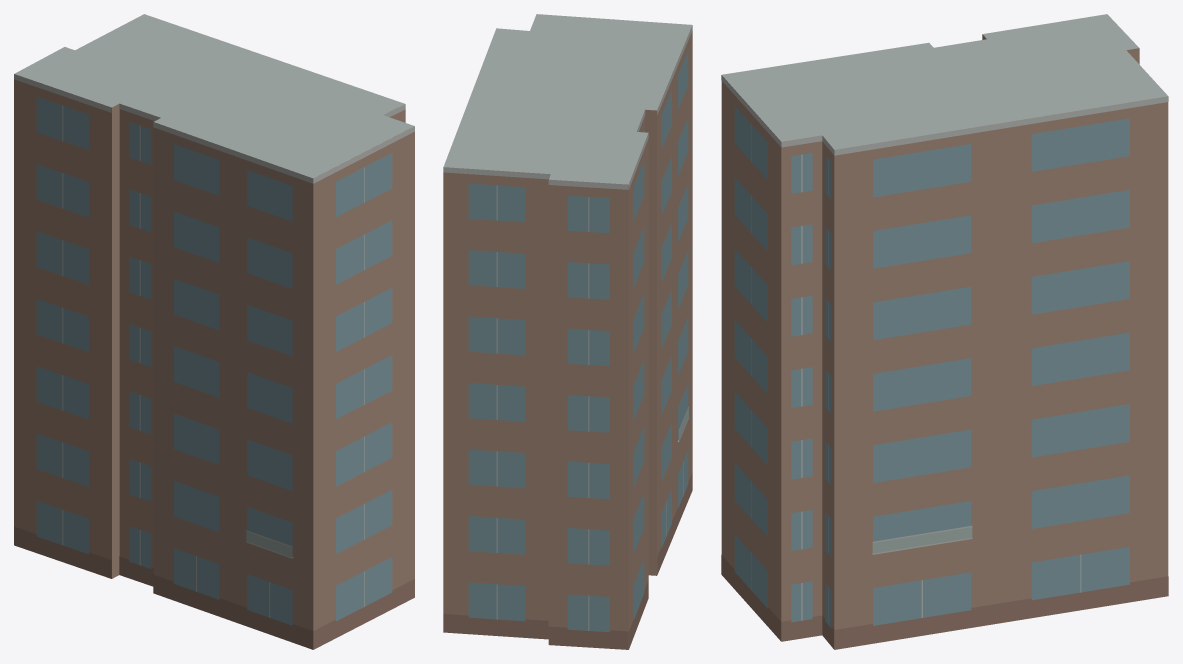
File: survey-upis-33000575.glb
3 renders of one model, left to right at view 1: azimuth 30°, elevation 25°; view 2: azimuth 150°, elevation 25°; view 3: azimuth 270°, elevation 25°, orthographic. The views are drawn at different scales.
Visible parts, largest first — view 1: survey-upis-33000575.tmp; view 2: survey-upis-33000575.tmp; view 3: survey-upis-33000575.tmp.
Boxes of the visible parts, x1,y1,x2,y2 form: survey-upis-33000575.tmp: [14, 14, 414, 649]; survey-upis-33000575.tmp: [443, 14, 692, 649]; survey-upis-33000575.tmp: [721, 14, 1168, 649].
Bounding box in the file's own units: 12.47 × 21.35 × 17.31.
